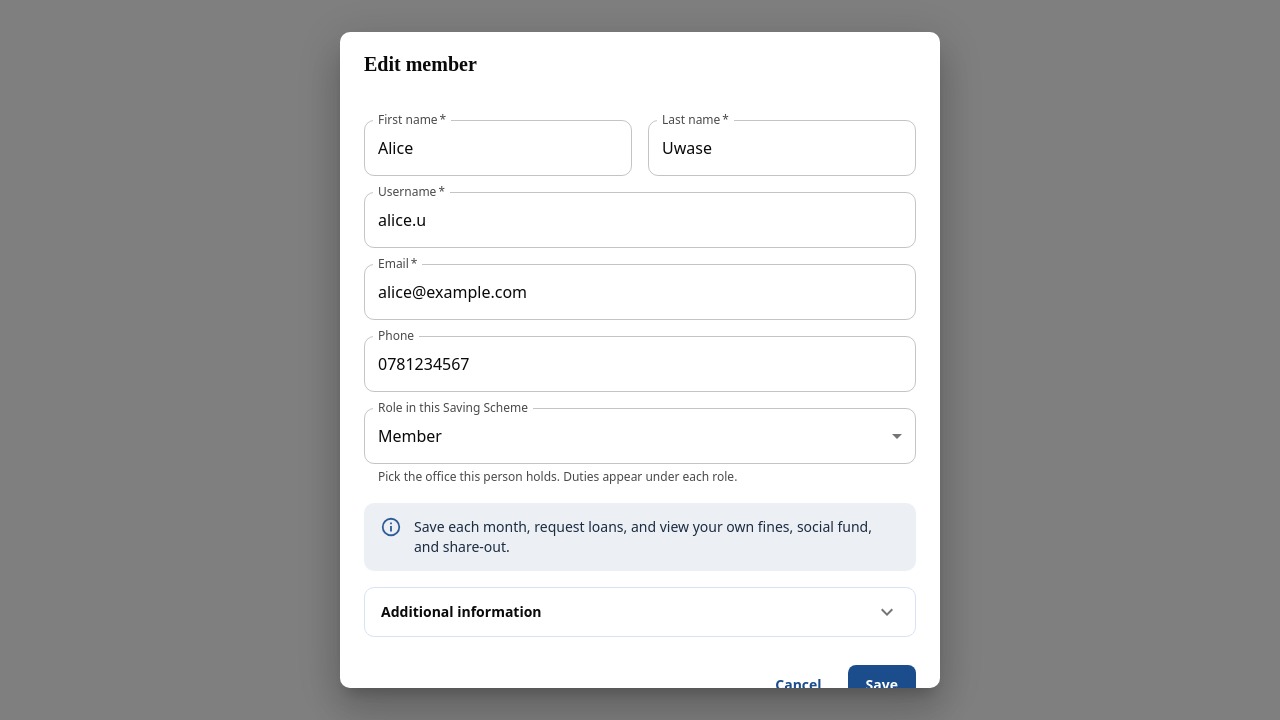
Test: MemberFormDialog (edit) › requires the mandatory fields and keeps what was typed
Clear the field labelled "First name *" at (498, 148), box [364, 120, 632, 176]
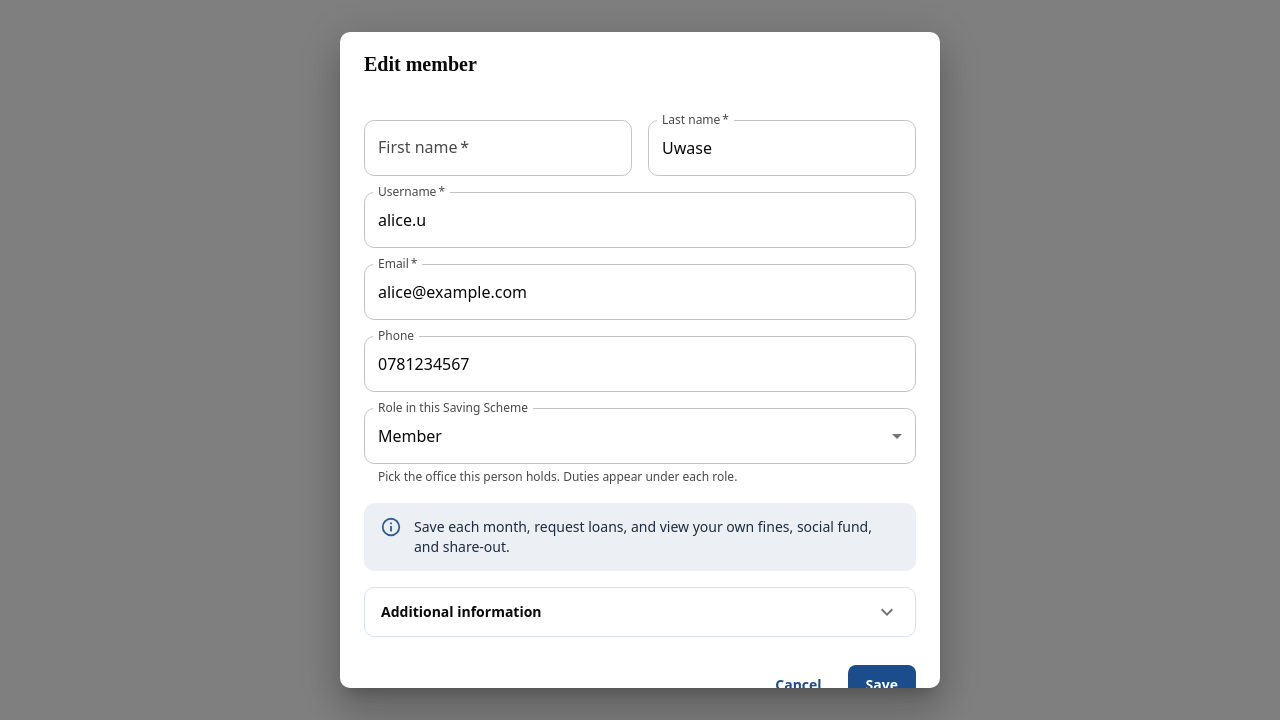
Click the button "Save" at (882, 685), box [848, 665, 916, 705]
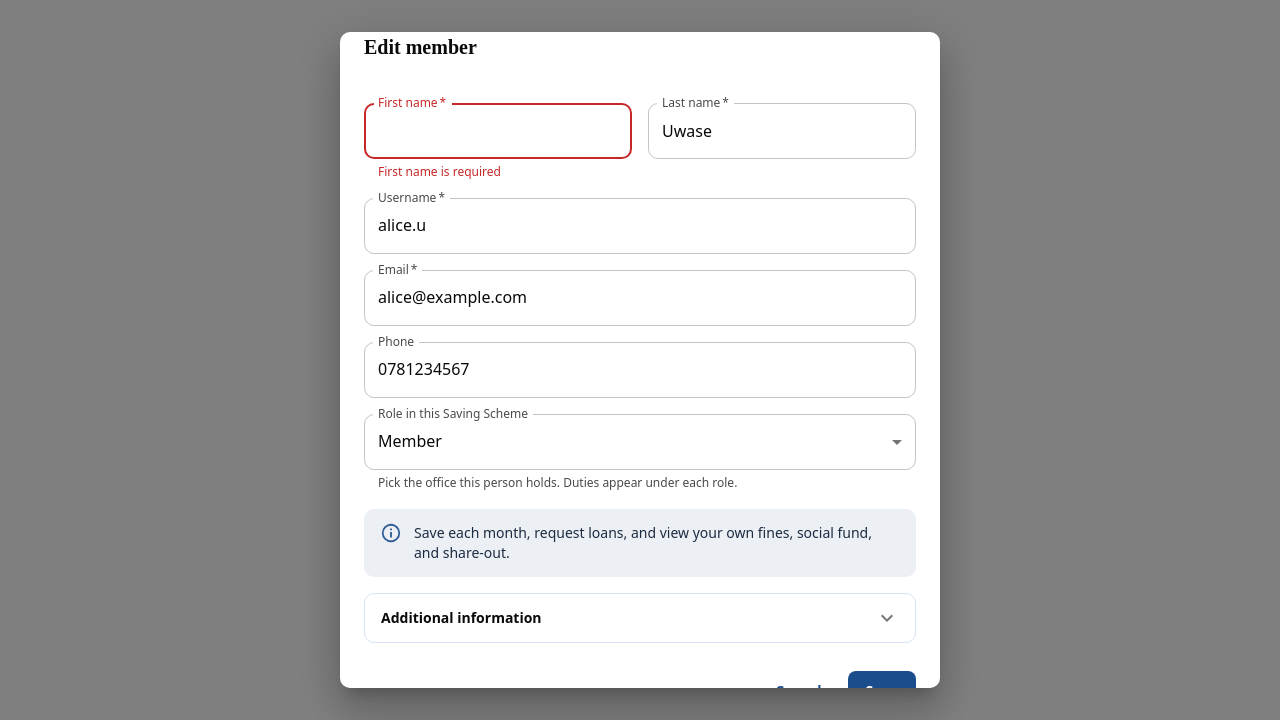
Check: the field labelled "Last name *" holds "Uwase", box [648, 103, 916, 159]
Check: the text "First name is required" is shown, box [378, 163, 501, 180]
